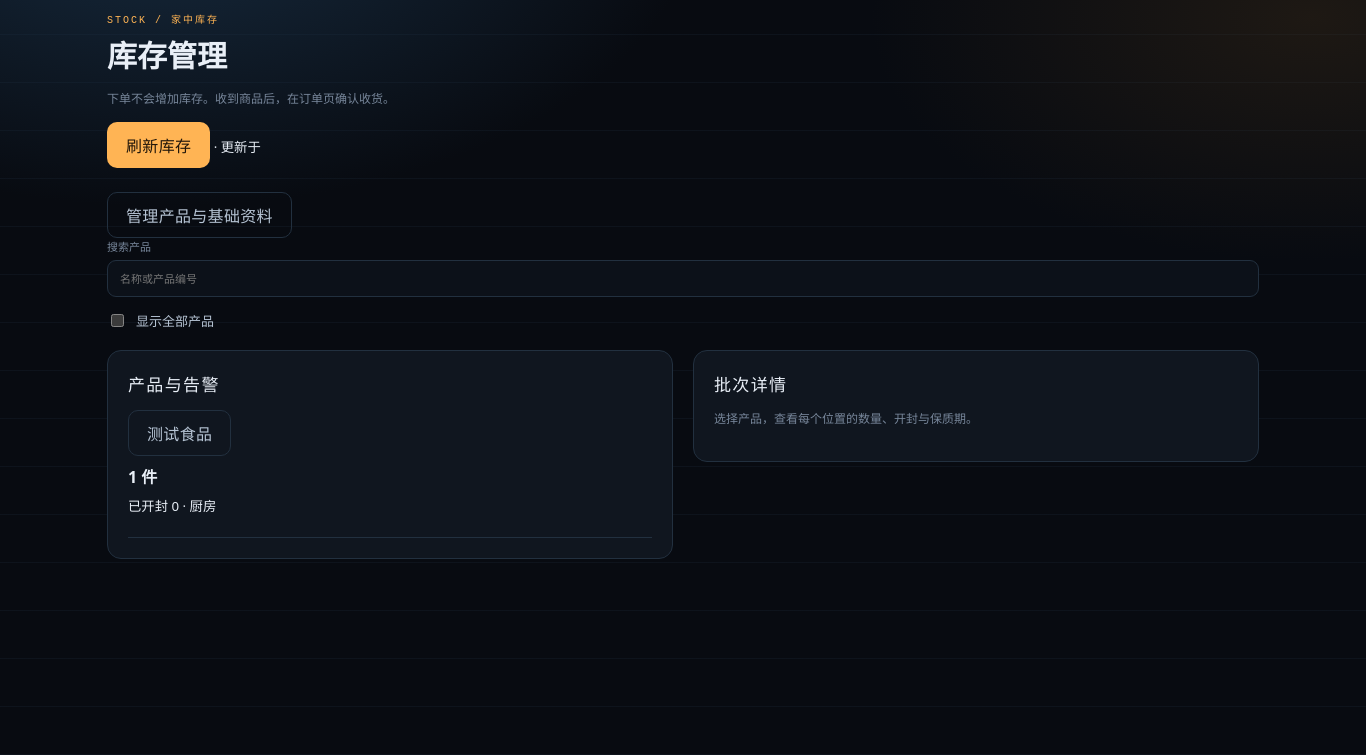
Test: 人工结论保存后即使库存刷新失败仍显示新状态 applied=false
Click the button "测试食品" at (180, 433), box [128,410,231,456]
(page scrolled)
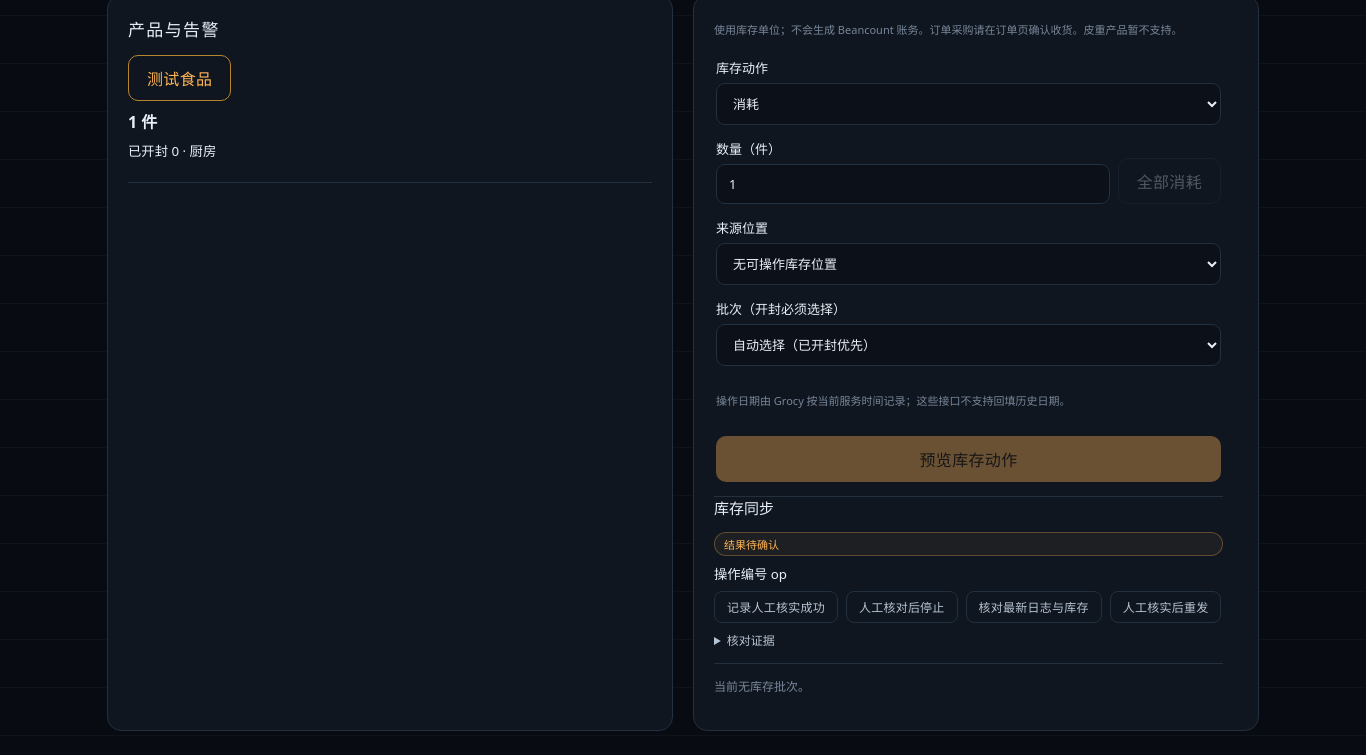
Click the button "人工核对后停止" at (902, 607), box [846,591,958,623]
(page scrolled)
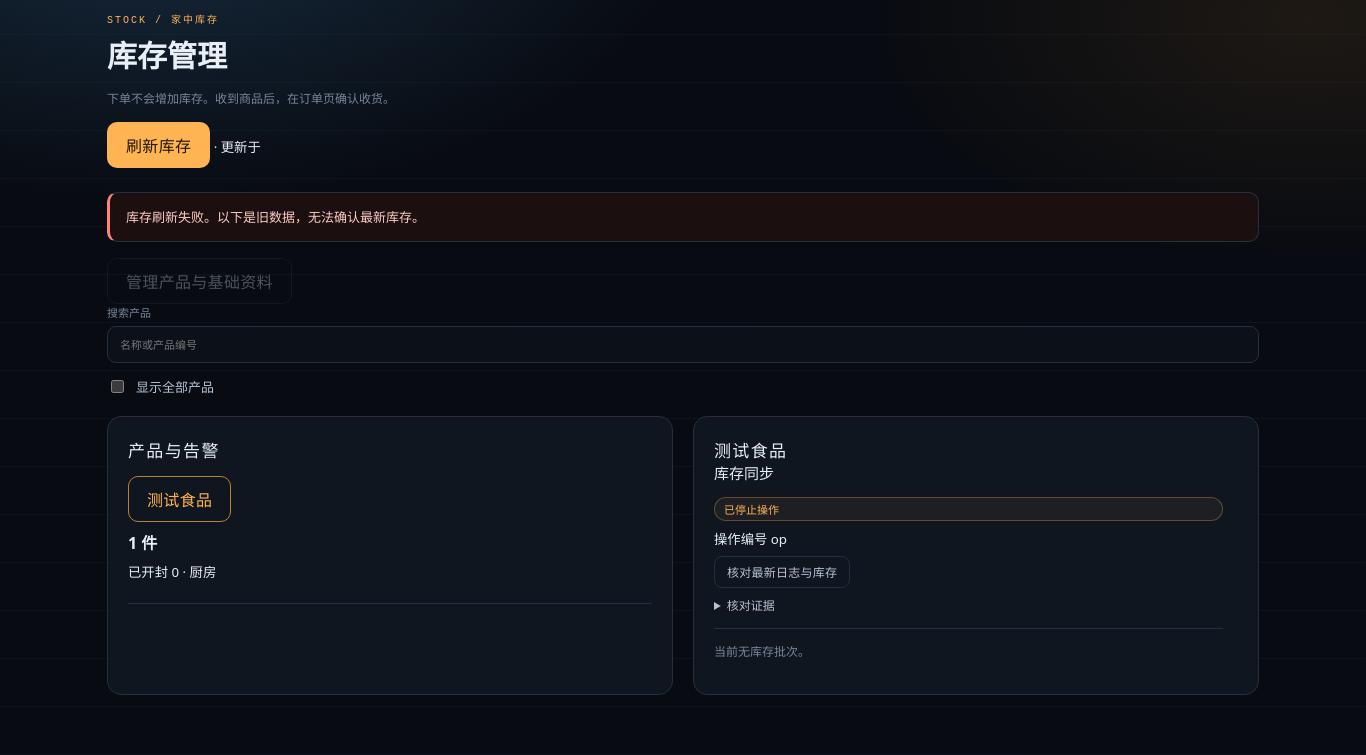
Now the text "库存刷新失败。以下是旧数据，无法确认最新库存。" is shown, box [126,206,425,228]
Now the text "已停止操作" is shown, box [714,497,1223,521]
Now the text "结果待确认" is gone
